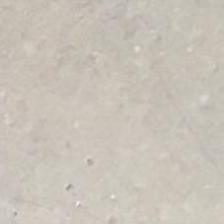Non_Crack: (4, 5, 224, 224)
